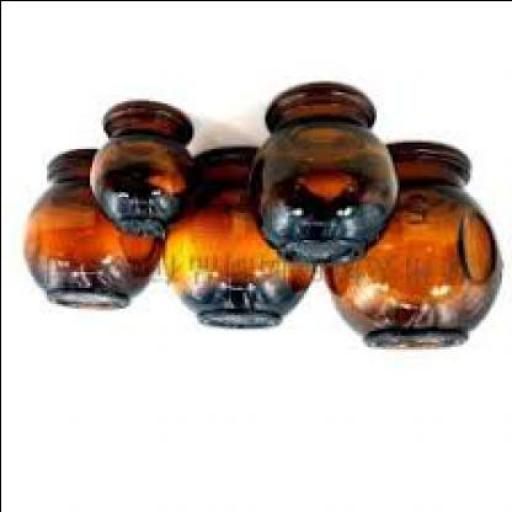glass: (321, 143, 505, 348), (154, 148, 317, 330), (250, 87, 400, 264), (25, 152, 162, 310), (91, 102, 198, 239)
